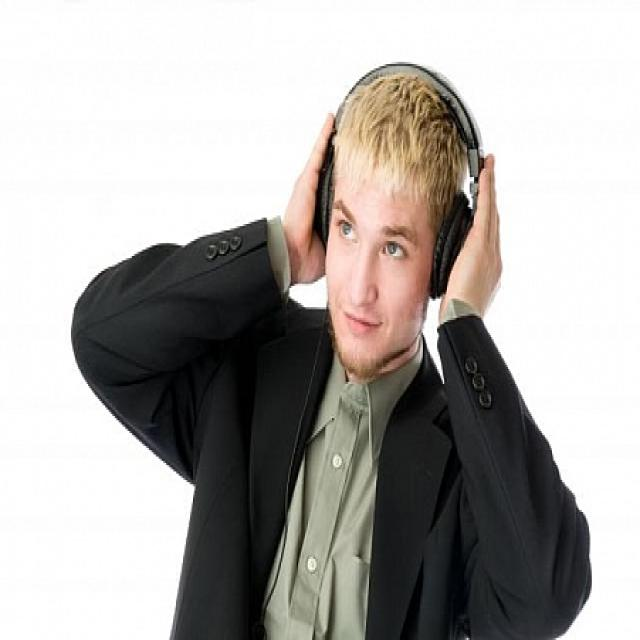Eyes: (326, 196, 428, 273)
